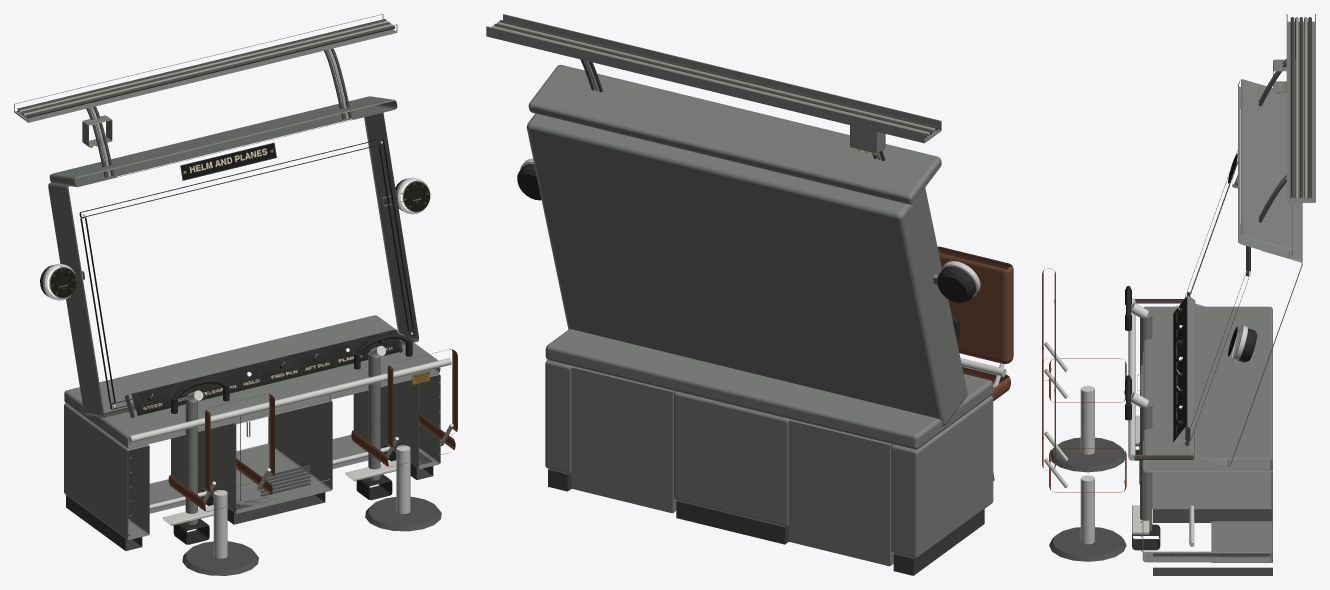
Rendered from helm_and_planes.glb.
3 renders of one model, left to right at view 1: azimuth 30°, elevation 25°; view 2: azimuth 150°, elevation 25°; view 3: azimuth 270°, elevation 25°, orthographic. The views are drawn at different scales.
Parts seen in each view (by area): view 1: body; view 2: body; view 3: body.
Part boxes in pixels (left/top/right/bottom): body: left=14, top=14, right=457, bottom=575; body: left=486, top=14, right=1013, bottom=575; body: left=1042, top=14, right=1315, bottom=575.
Size of the model in its own units: 2.53 by 2.48 by 1.55.
Materials: 12 (5 with a texture image).
